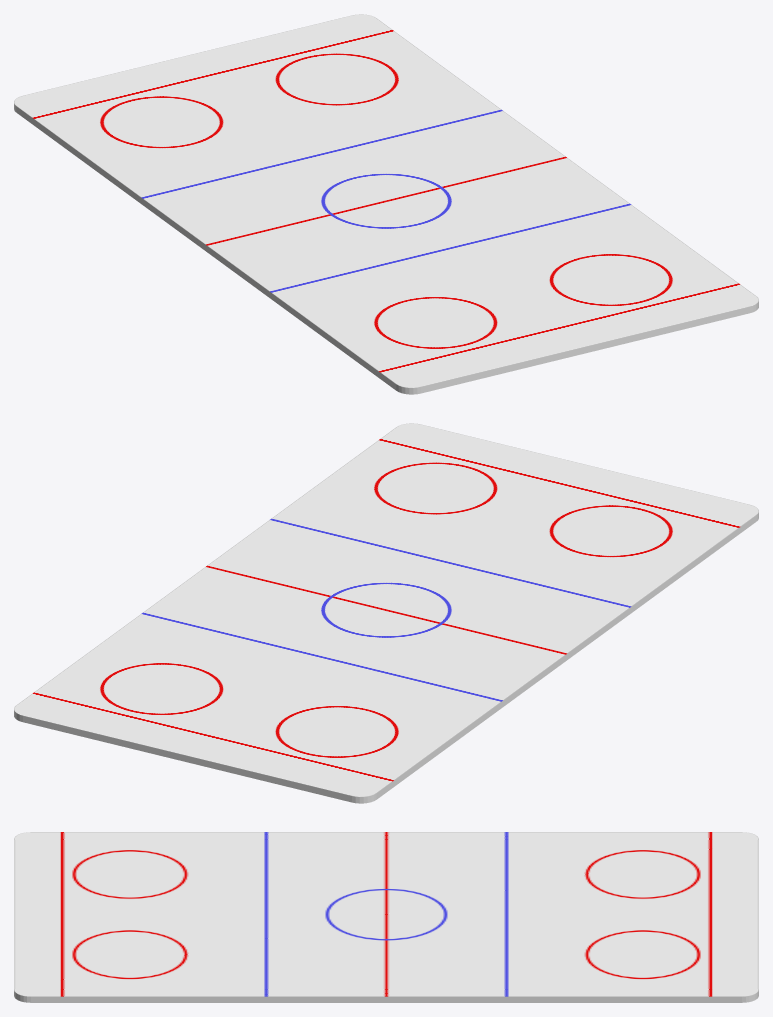
The model's file is table.glb.
The picture shows the model from 3 angles, top to bottom: view 1: azimuth 30°, elevation 25°; view 2: azimuth 150°, elevation 25°; view 3: azimuth 270°, elevation 25°; orthographic projection. The views are drawn at different scales.
Parts seen in each view (by area): view 1: table; view 2: table; view 3: table.
Part boxes in pixels (left/top/right/bottom): table: left=14, top=14, right=758, bottom=394; table: left=14, top=423, right=758, bottom=803; table: left=14, top=832, right=758, bottom=1002.
Bounding box in the file's own units: 1150 × 20 × 2200.
Materials: 1 (1 with a texture image).
